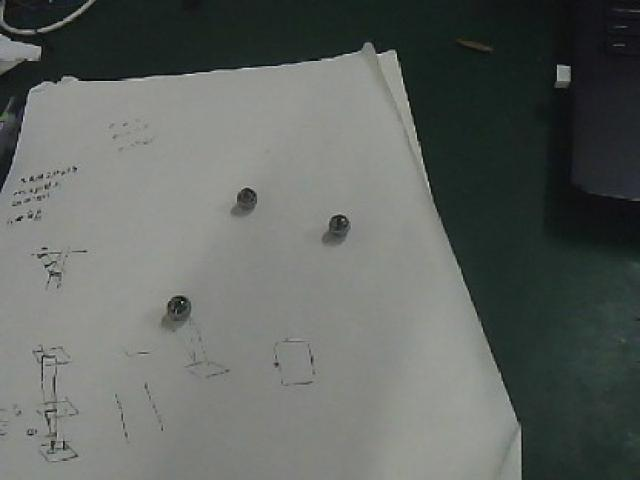steel-ball: (308, 205, 363, 249), (222, 177, 264, 226), (160, 279, 202, 323)
